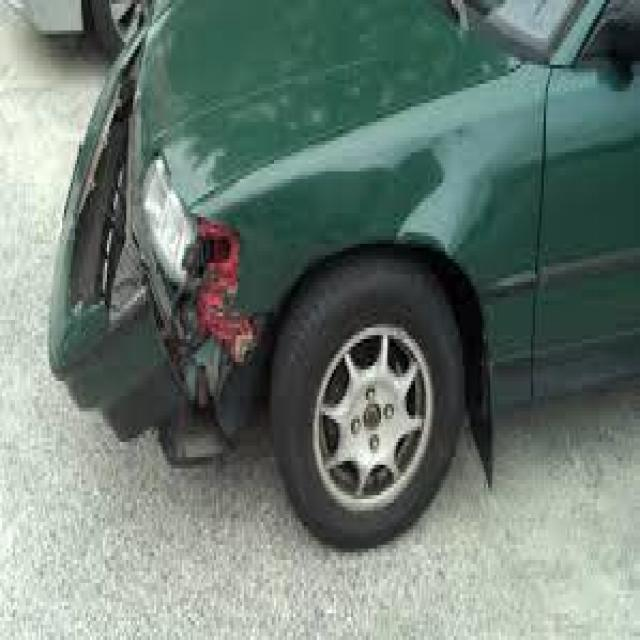damaged: (62, 49, 261, 450)
